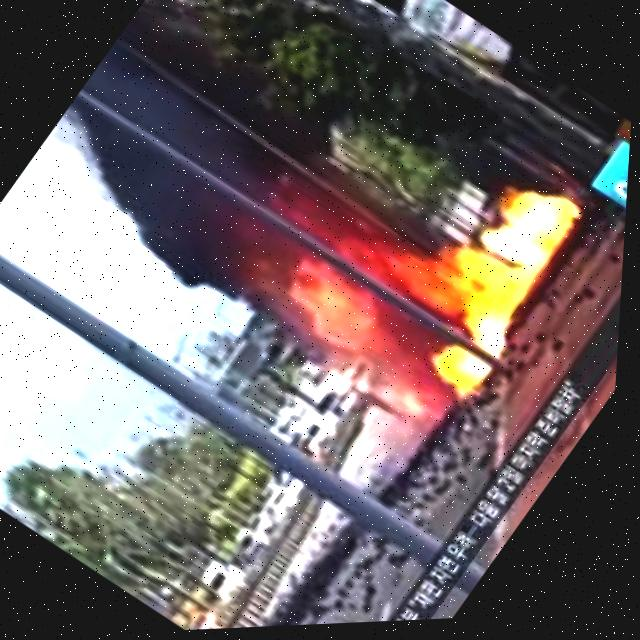Fire: (374, 150, 617, 421)
Smoke: (5, 0, 527, 443)
